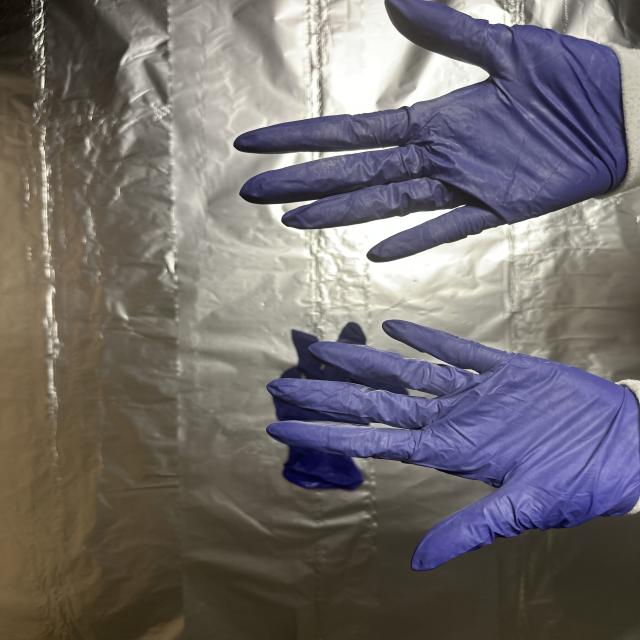gloves_contaminated: (234, 0, 629, 262), (267, 320, 640, 570)
